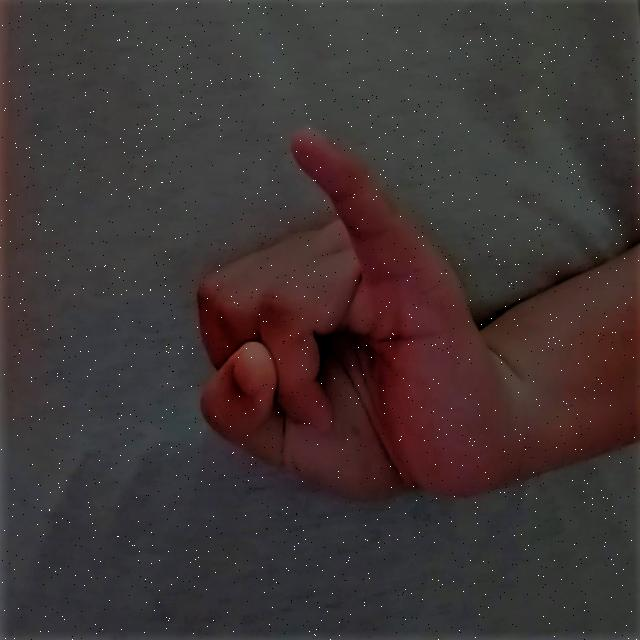I: (182, 119, 534, 517)
